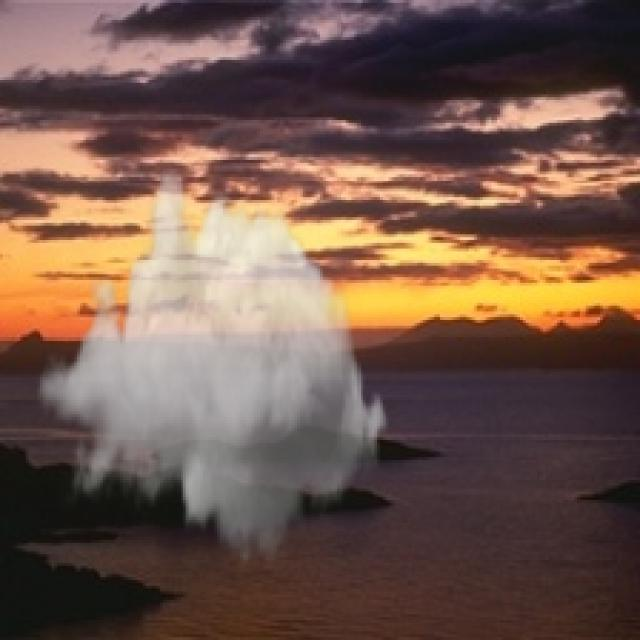smoke: (37, 163, 392, 571)
